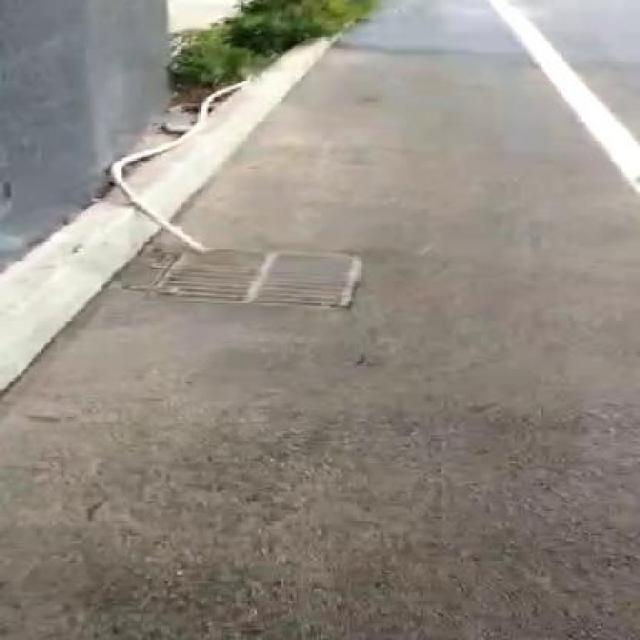Manhole: (146, 238, 380, 319)
